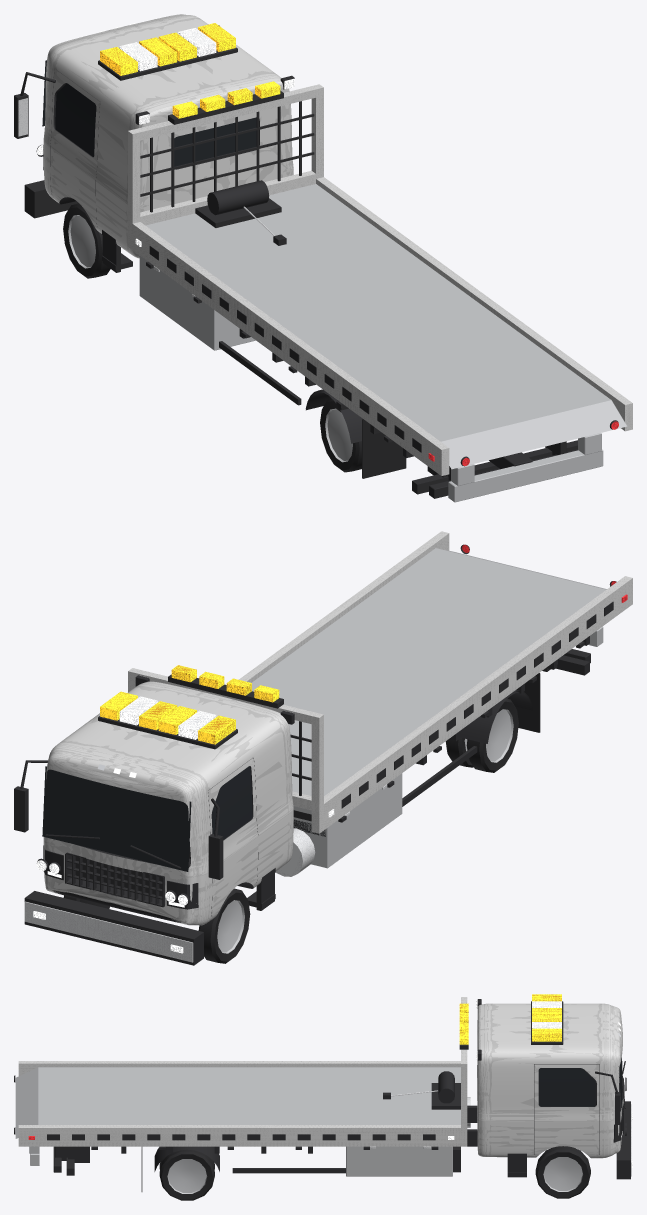
The model's file is road_tow.glb.
3 views of the same model, one above another, from view 1: azimuth 30°, elevation 25°; view 2: azimuth 150°, elevation 25°; view 3: azimuth 270°, elevation 25° (orthographic). The views are drawn at different scales.
Visible parts, largest first — view 1: rig_bed, road_tow_far, road_tow; view 2: road_tow_far, road_tow, rig_bed; view 3: rig_bed, road_tow_far, road_tow.
Part boxes in pixels (x1,y1,x2,y2): rig_bed: (128,81,632,475); road_tow_far: (14,14,632,501); road_tow: (14,14,603,502); road_tow_far: (14,531,632,965); road_tow: (14,626,603,965); rig_bed: (128,531,632,833); rig_bed: (14,997,468,1149); road_tow_far: (14,994,632,1200); road_tow: (29,994,632,1191).
Size of the model in its own units: 2.62 by 2.7 by 9.55.
